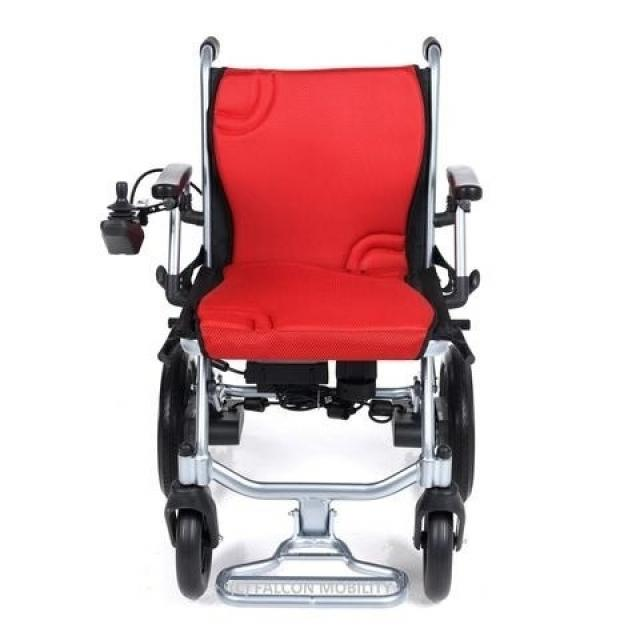wheelchair: (88, 19, 533, 623)
